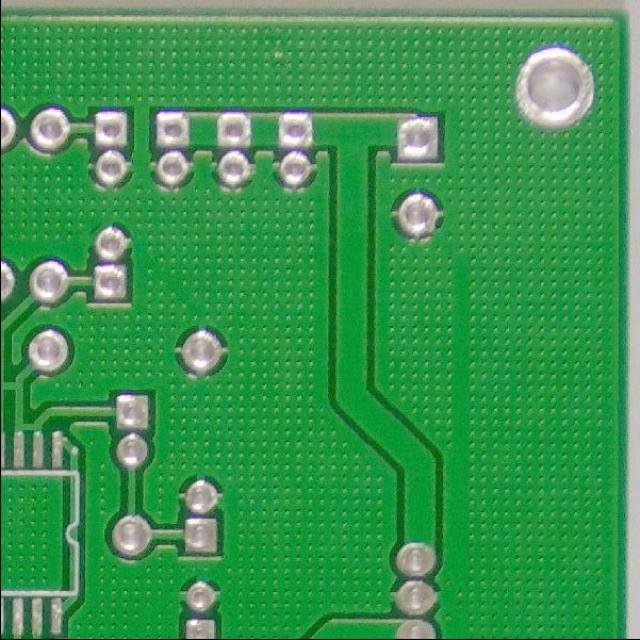short: (1, 365, 25, 403), (12, 417, 44, 441)
